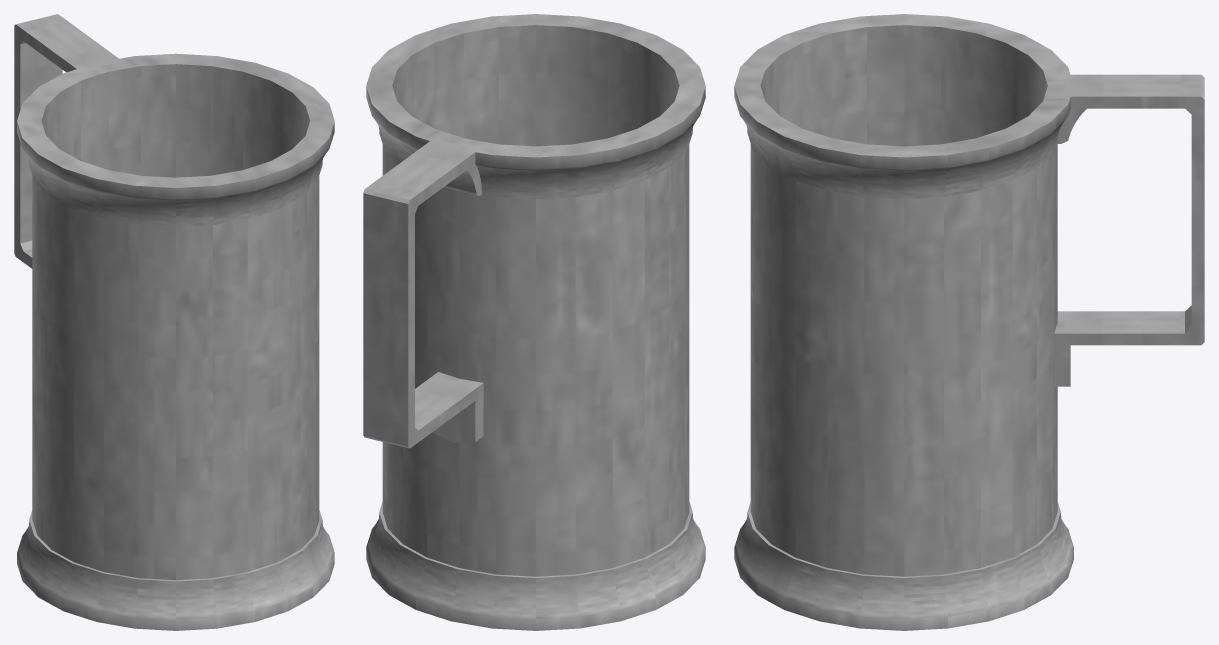
3 views of the same model, side by side, from view 1: azimuth 30°, elevation 25°; view 2: azimuth 150°, elevation 25°; view 3: azimuth 270°, elevation 25° (orthographic). The views are drawn at different scales.
Parts seen in each view (by area): view 1: mesh1_mesh1-geometry; view 2: mesh1_mesh1-geometry; view 3: mesh1_mesh1-geometry.
Part boxes in pixels (x1=…): mesh1_mesh1-geometry: x1=14, y1=14, x2=334, y2=630; mesh1_mesh1-geometry: x1=363, y1=14, x2=705, y2=630; mesh1_mesh1-geometry: x1=734, y1=14, x2=1204, y2=630.
Size of the model in its own units: 0.435 by 0.6693 by 0.6023.
2 materials, 1 textured.
